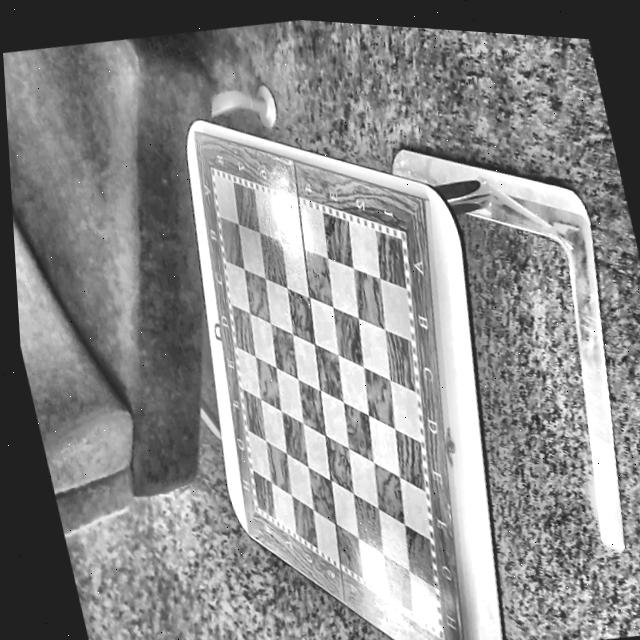chessboard: (214, 173, 438, 628)
